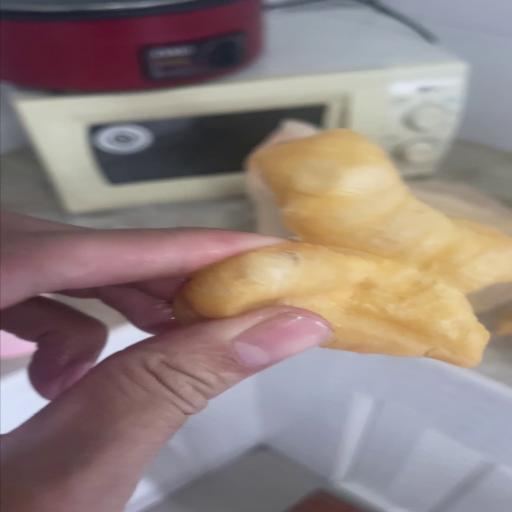street_golden_good: (181, 131, 512, 368)
